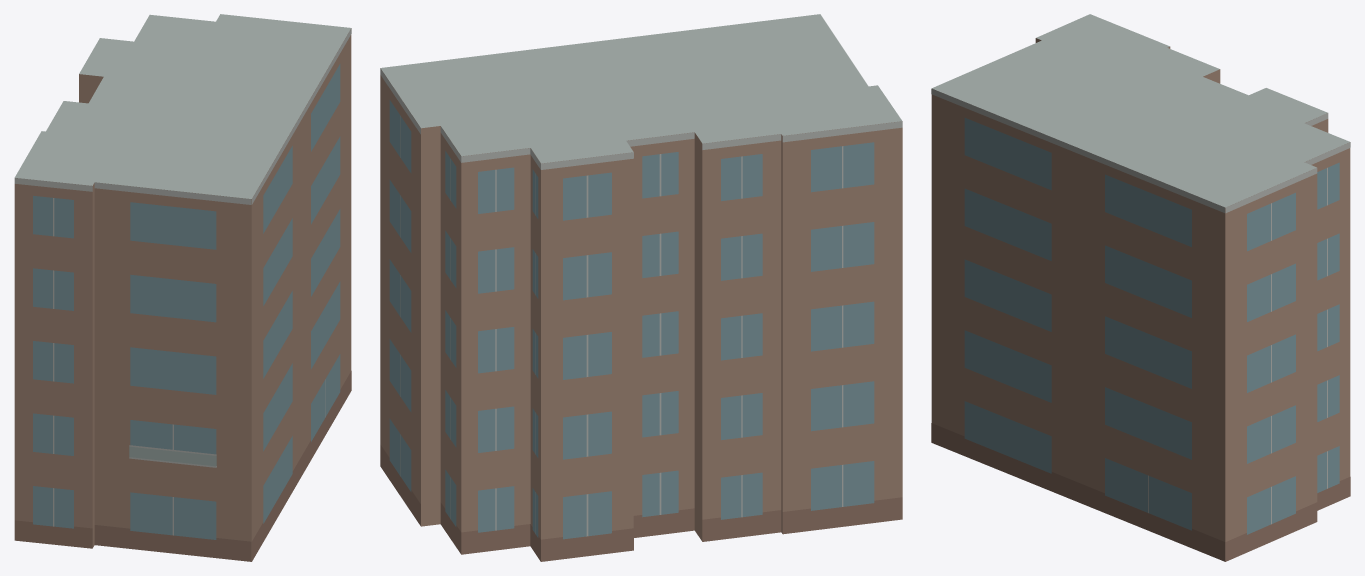
The model's file is survey-upis-32585610.glb.
The picture shows the model from 3 angles, left to right: view 1: azimuth 30°, elevation 25°; view 2: azimuth 150°, elevation 25°; view 3: azimuth 270°, elevation 25°; orthographic projection. The views are drawn at different scales.
Visible parts, largest first — view 1: survey-upis-32585610.tmp; view 2: survey-upis-32585610.tmp; view 3: survey-upis-32585610.tmp.
Part boxes in pixels (x1,y1,x2,y2): survey-upis-32585610.tmp: (14, 14, 351, 561); survey-upis-32585610.tmp: (380, 14, 902, 561); survey-upis-32585610.tmp: (931, 14, 1350, 561).
Bounding box in the file's own units: 17.35 × 14.8 × 15.87.
